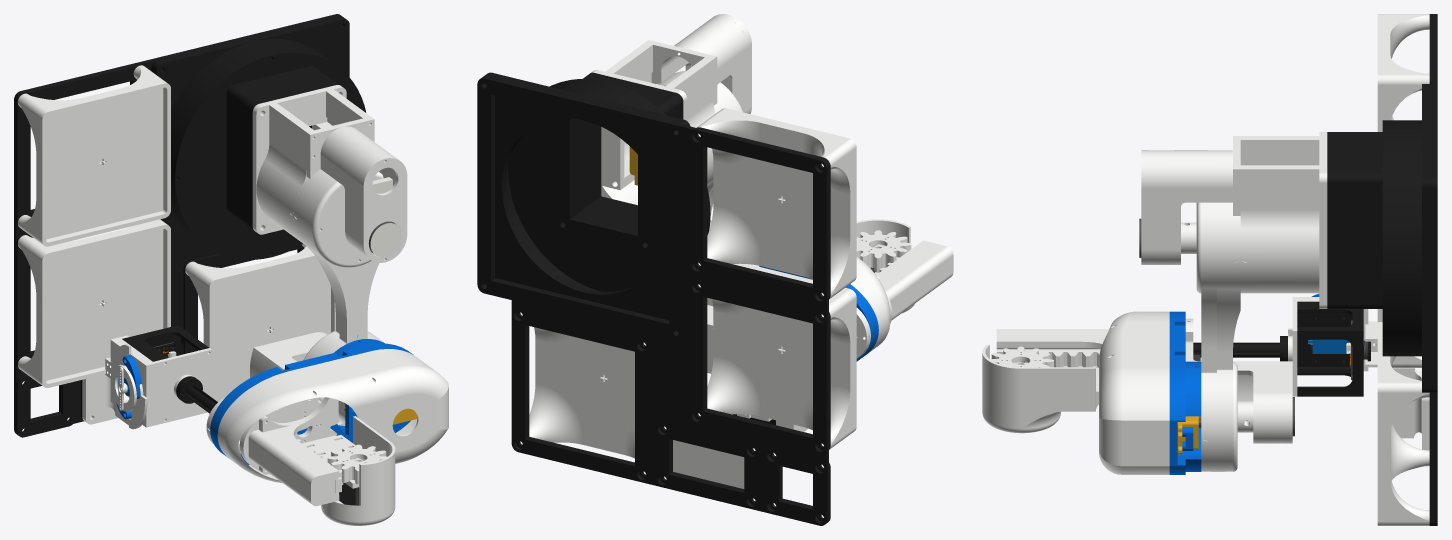
The model's file is scara_servo_A v41.fbx.
The picture shows the model from 3 angles, left to right: view 1: azimuth 30°, elevation 25°; view 2: azimuth 150°, elevation 25°; view 3: azimuth 270°, elevation 25°; orthographic projection. The views are drawn at different scales.
Parts seen in each view (by area): view 1: Body1 (×27), Body2 (×2); view 2: Body1 (×15), Body2; view 3: Body1 (×23), Body2.
Part boxes in pixels (x1,y1,x2,y2): Body1 (×27): (14, 14, 448, 525); Body2 (×2): (153, 16, 359, 488); Body1 (×15): (477, 17, 953, 525); Body2: (485, 72, 690, 320); Body1 (×23): (982, 14, 1437, 525); Body2: (1390, 84, 1429, 392).
Size of the model in its own units: 255 by 255 by 289.
